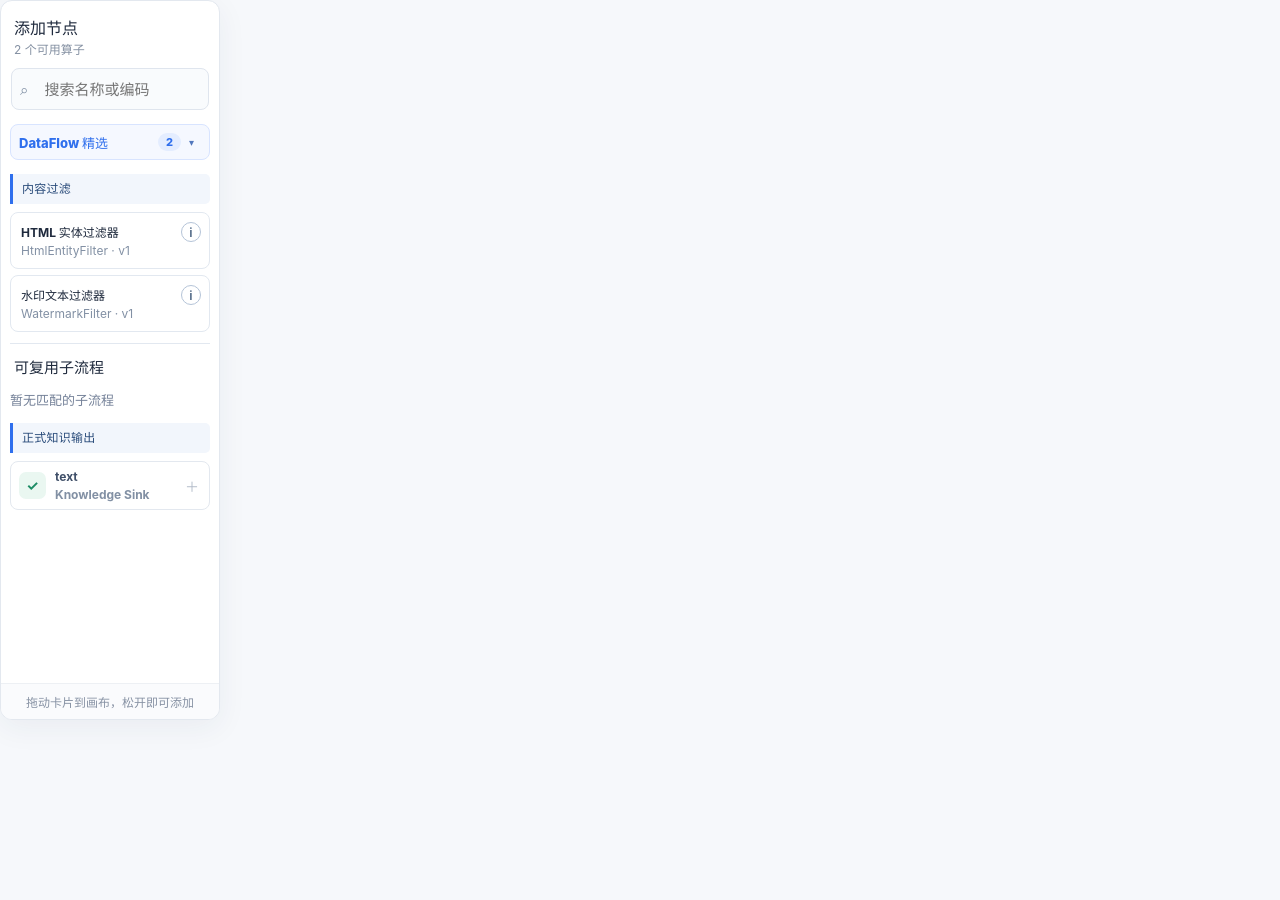
Test: operator help has no graph mutations › keeps one pinned detail and switches only on another information click
Click the 1st button with class "operator-info".
click(191, 232)  # box [181,222,201,242]
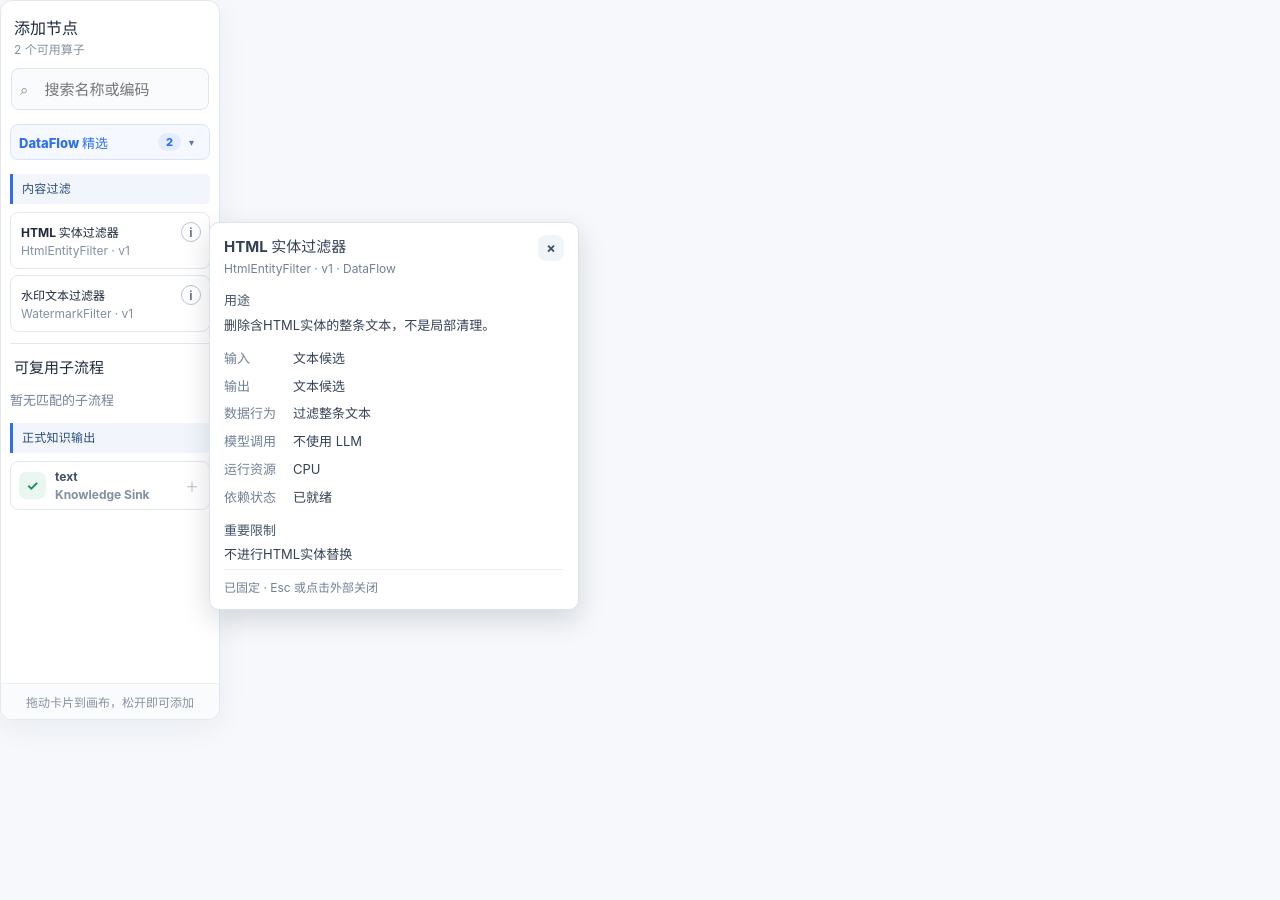
Hover over the 2nd button with class "operator-info".
mouse_move(191, 295)  # box [181,285,201,305]
Now the dialog shows "HtmlEntityFilter", box [224,261,396,276]
Click the 2nd button with class "operator-info".
click(191, 295)  # box [181,285,201,305]
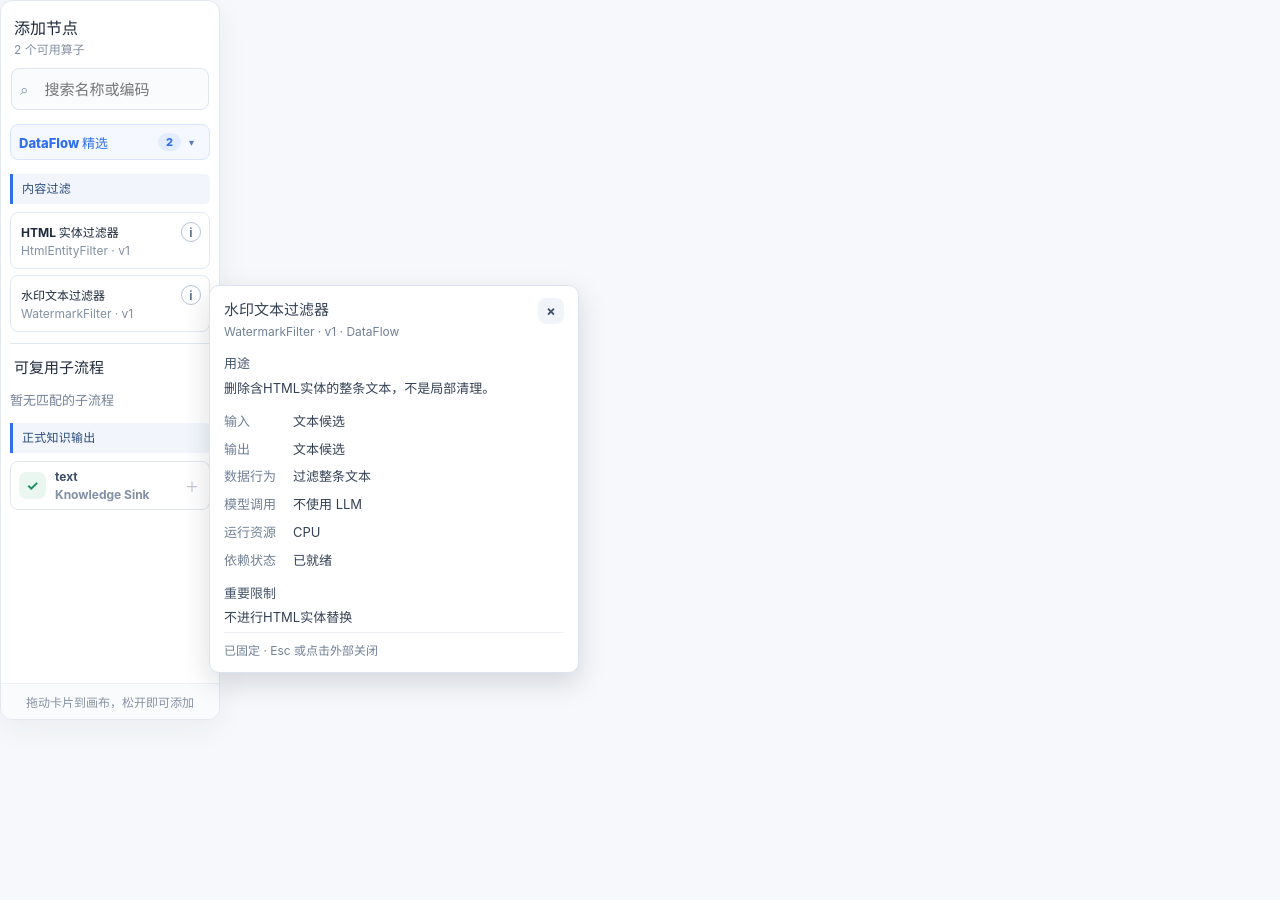
Now the number of dialogs is 1, box [209,285,579,673]
Now the dialog shows "WatermarkFilter", box [224,324,399,339]
Press the mouse on the element that starts with "添加节点" at (640, 450), box [0,0,1279,899]
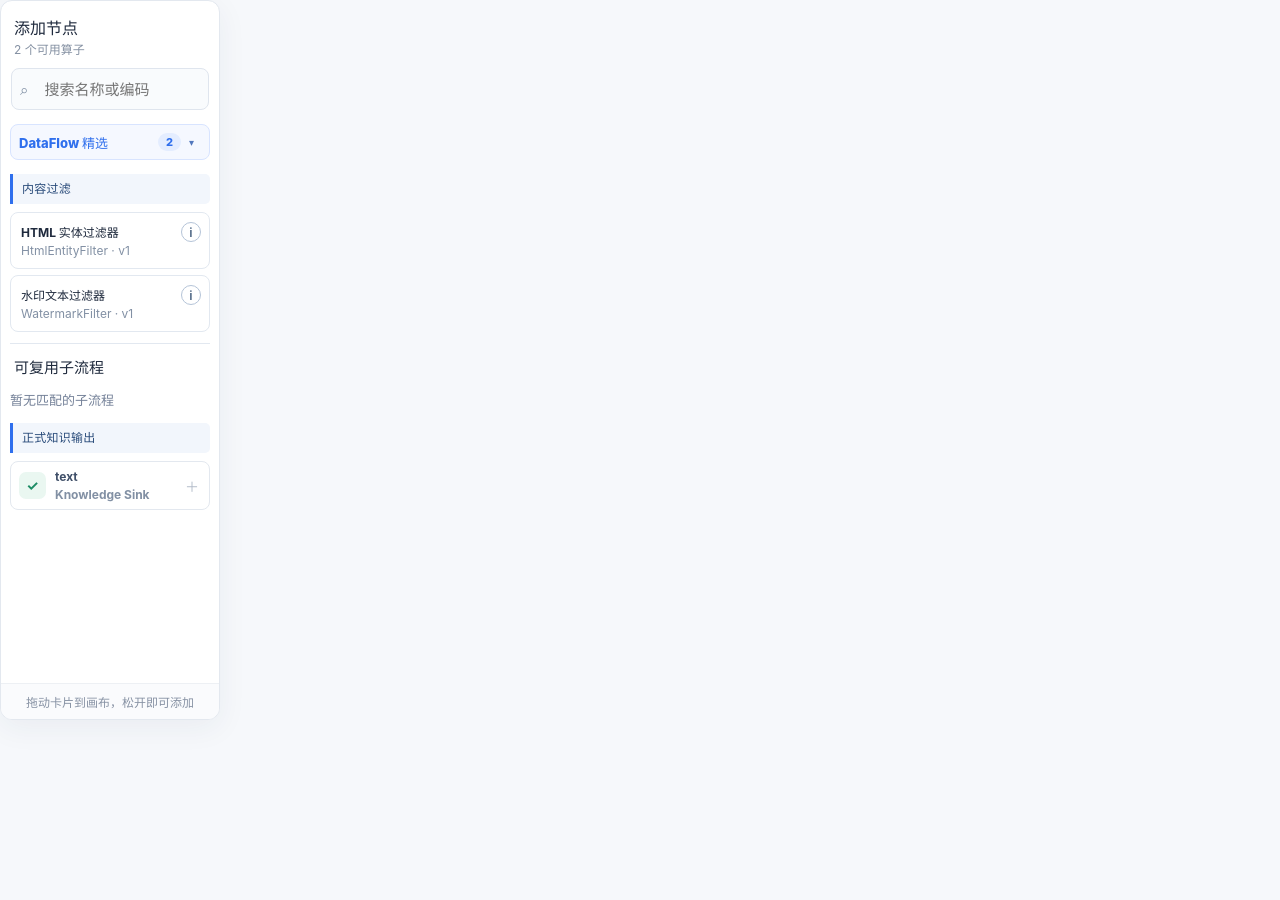
Now the dialog is gone
